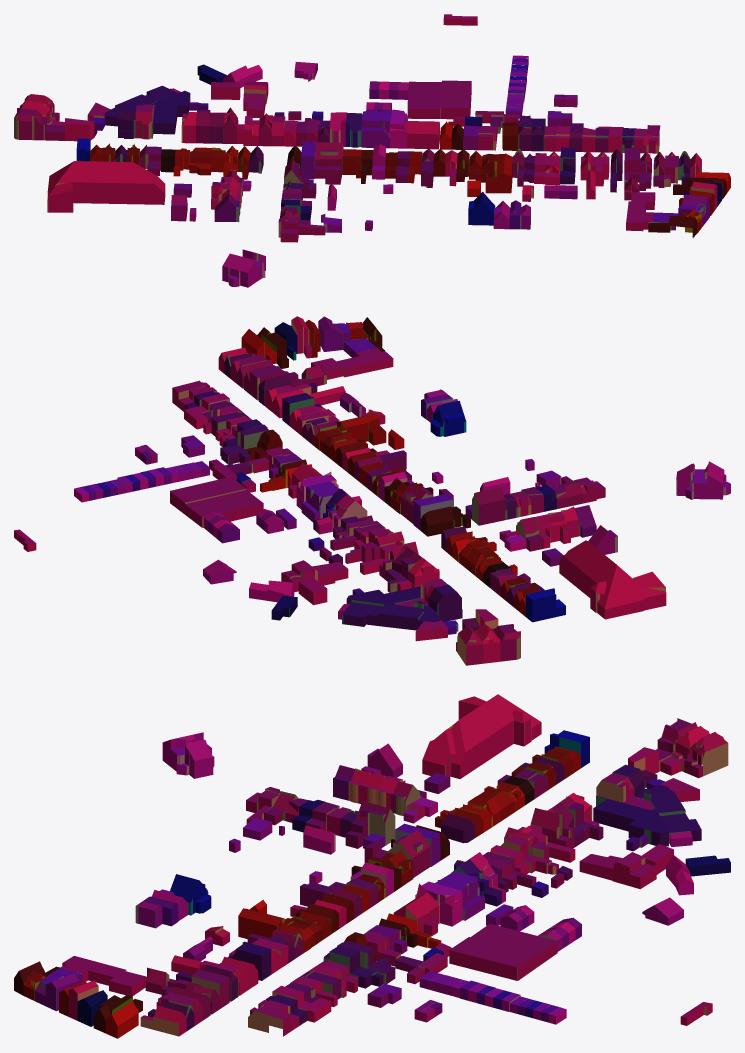
Rendered from buildings_5_10.glb.
3 renders of one model, top to bottom at view 1: azimuth 30°, elevation 25°; view 2: azimuth 150°, elevation 25°; view 3: azimuth 270°, elevation 25°, orthographic. The views are drawn at different scales.
Parts seen in each view (by area): view 1: buildings_5_10; view 2: buildings_5_10; view 3: buildings_5_10.
Boxes of the visible parts, left/top/right/bottom form: buildings_5_10: left=14, top=14, right=730, bottom=287; buildings_5_10: left=14, top=316, right=730, bottom=665; buildings_5_10: left=14, top=694, right=730, bottom=1038.
Bounding box in the file's own units: 226 × 14.41 × 213.
